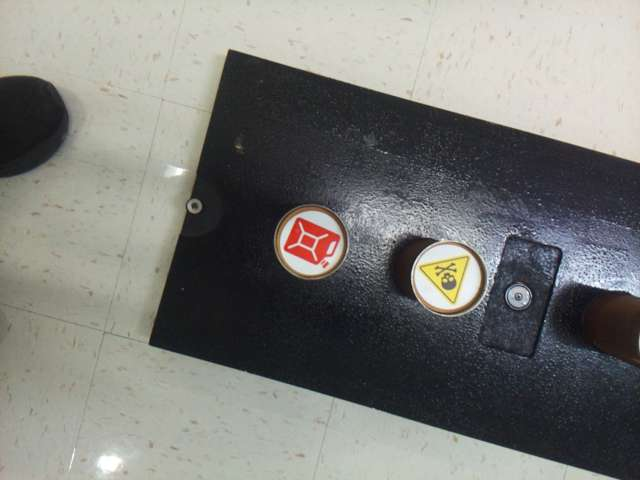gasoline: (280, 212, 344, 275)
toxic_fluid: (417, 247, 480, 310)
